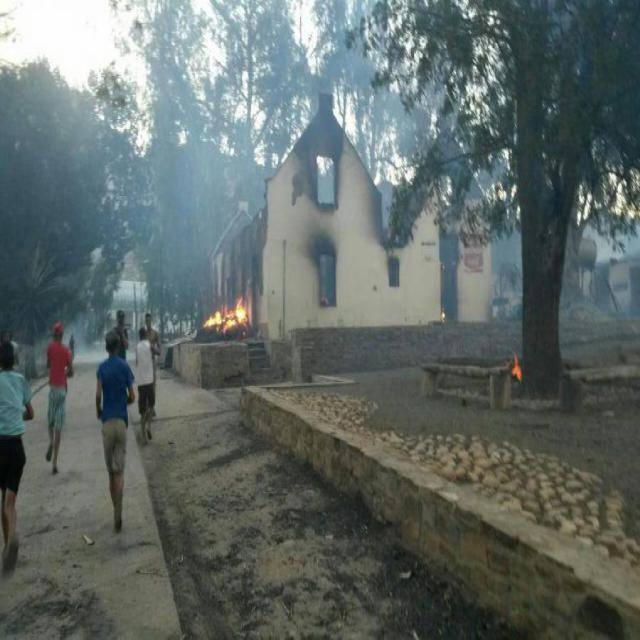Fire: (205, 302, 249, 330)
